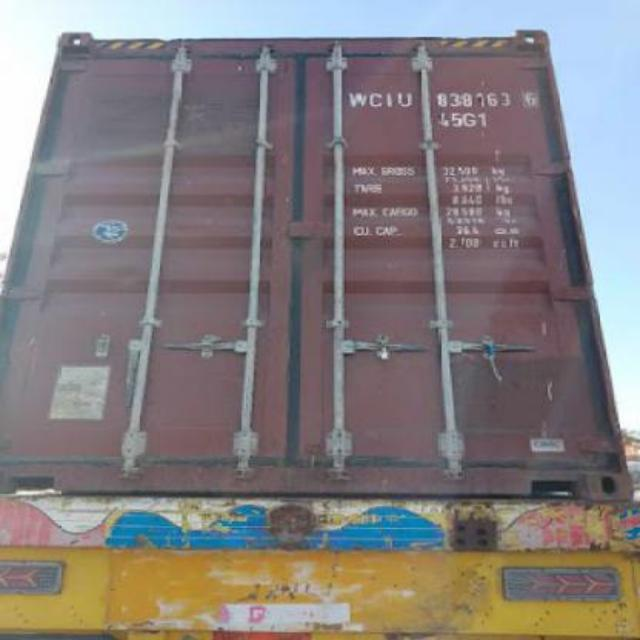1: (474, 90, 486, 108)
3: (450, 92, 460, 110), (500, 92, 512, 106)
6: (524, 92, 538, 108), (488, 94, 500, 110)
8: (462, 92, 476, 110), (436, 94, 448, 108)
C: (368, 94, 384, 108)
I: (386, 92, 394, 110)
U: (396, 92, 414, 110)
W: (347, 92, 368, 110)
